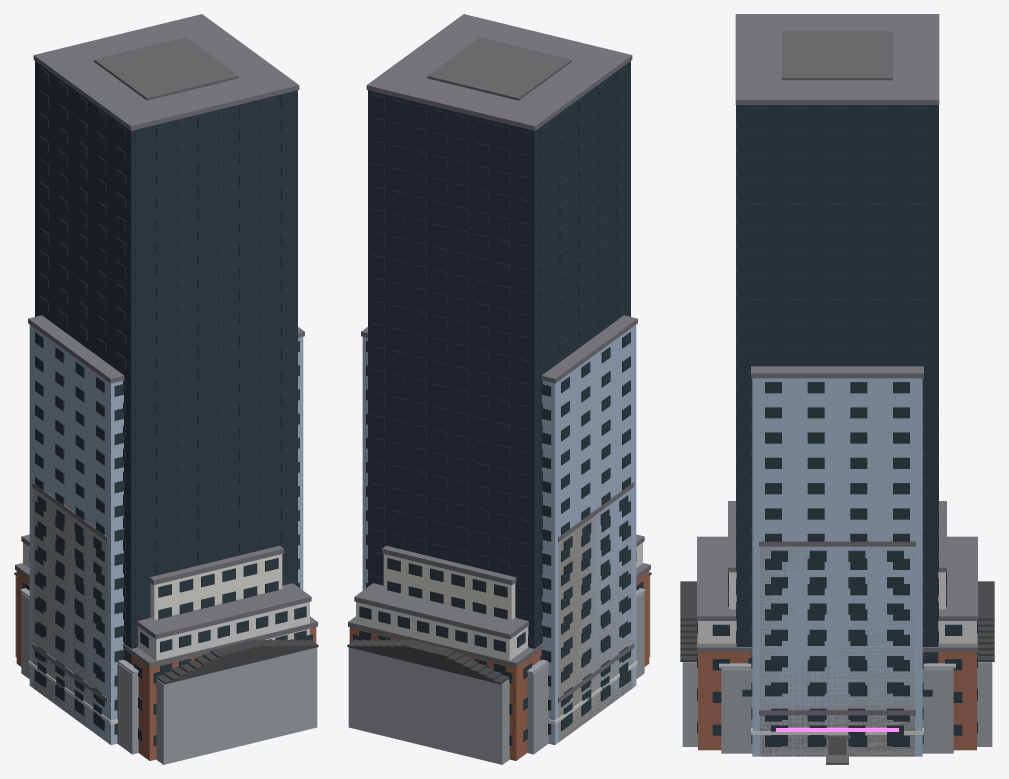
Rendered from Bld_All.fbx.
3 renders of one model, left to right at view 1: azimuth 30°, elevation 25°; view 2: azimuth 150°, elevation 25°; view 3: azimuth 270°, elevation 25°, orthographic. The views are drawn at different scales.
Parts seen in each view (by area): view 1: SM_Bld_Tower_C_cm, SM_Bld_Tower_B_cm, SM_Bld_Warehouse_A_cm, SM_Bld_Office_A_cm, SM_Bld_Hospital_cm, SM_Bld_Office_B_cm, SM_Bld_Factory_cm, SM_Bld_Hangar_cm, SM_Bld_Range_cm; view 2: SM_Bld_Tower_C_cm, SM_Bld_Tower_B_cm, SM_Bld_Warehouse_A_cm, SM_Bld_Office_A_cm, SM_Bld_Hospital_cm, SM_Bld_Office_B_cm, SM_Bld_Factory_cm, SM_Bld_Hangar_cm, SM_Bld_Range_cm; view 3: SM_Bld_Tower_C_cm, SM_Bld_Tower_B_cm, SM_Bld_Office_A_cm, SM_Bld_Hospital_cm, SM_Bld_Factory_cm, SM_Bld_Hangar_cm, SM_Bld_Warehouse_A_cm, SM_Bld_Range_cm, SM_Bld_Office_B_cm.
Boxes of the visible parts, x1,y1,x2,y2 form: SM_Bld_Tower_C_cm: (33,14,299,663); SM_Bld_Tower_B_cm: (28,315,304,745); SM_Bld_Warehouse_A_cm: (14,572,318,764); SM_Bld_Office_A_cm: (31,482,107,738); SM_Bld_Hospital_cm: (21,534,311,672); SM_Bld_Office_B_cm: (149,545,283,619); SM_Bld_Factory_cm: (15,563,317,760); SM_Bld_Hangar_cm: (20,588,138,754); SM_Bld_Range_cm: (31,643,107,733); SM_Bld_Tower_C_cm: (366,14,632,660); SM_Bld_Tower_B_cm: (361,315,637,745); SM_Bld_Warehouse_A_cm: (347,572,651,764); SM_Bld_Office_A_cm: (558,482,634,741); SM_Bld_Hospital_cm: (354,534,644,675); SM_Bld_Office_B_cm: (382,545,516,619); SM_Bld_Factory_cm: (348,563,650,760); SM_Bld_Hangar_cm: (527,588,645,754); SM_Bld_Range_cm: (558,643,634,739); SM_Bld_Tower_C_cm: (735,14,939,663); SM_Bld_Tower_B_cm: (751,366,923,756); SM_Bld_Office_A_cm: (759,541,915,764); SM_Bld_Hospital_cm: (697,536,977,653); SM_Bld_Factory_cm: (697,633,977,750); SM_Bld_Hangar_cm: (719,663,955,753); SM_Bld_Warehouse_A_cm: (680,581,994,746); SM_Bld_Range_cm: (759,709,915,756); SM_Bld_Office_B_cm: (728,501,946,609).
Size of the model in its own units: 4060 by 3265 by 9305.
